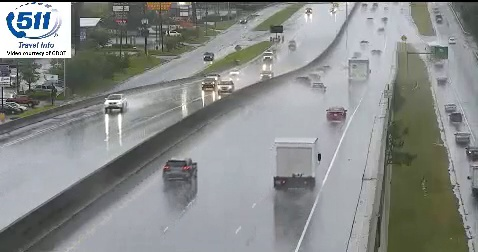car: (162, 158, 196, 180), (326, 106, 346, 122)
small-truck: (276, 138, 318, 189), (348, 59, 369, 83)
